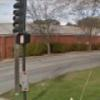traffic lights: (11, 1, 27, 34)
